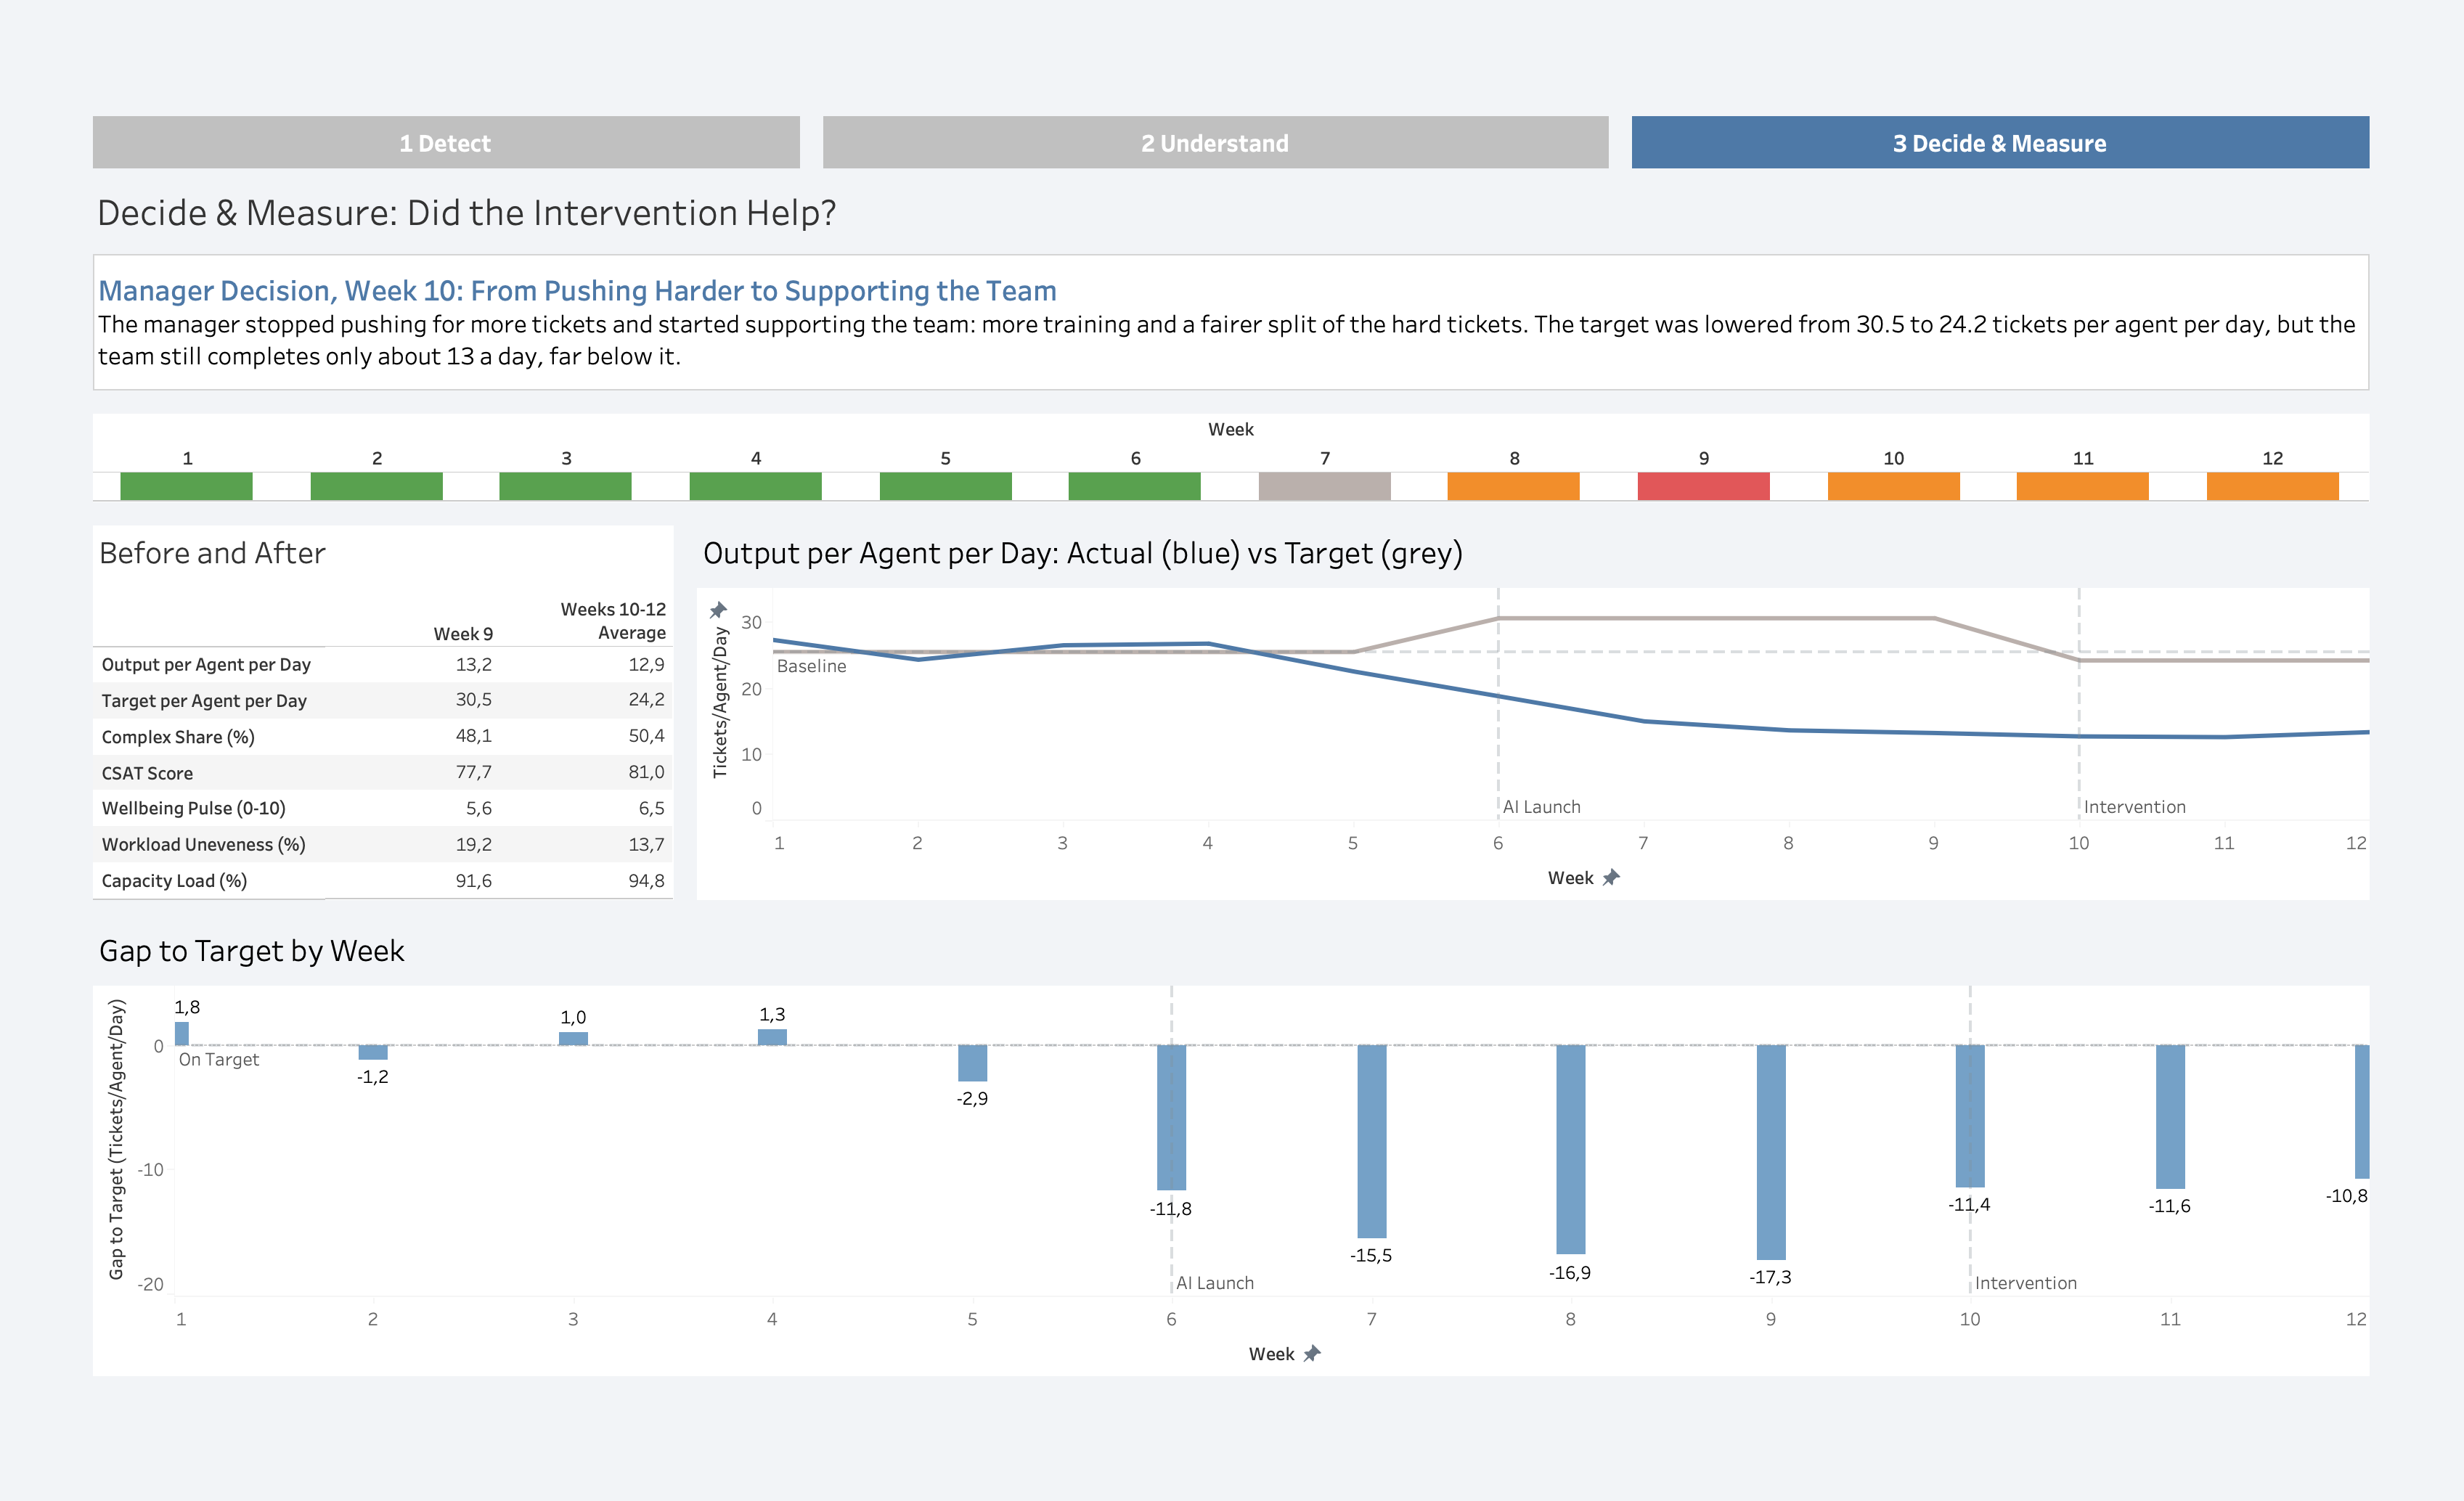

Layout of this report page (visuals, bound fields, positions):
{"tool":"tableau","page":{"name":"3 Decide & Measure","canvas":[1600,900],"ordinal":2},"visuals":[{"type":"dashboard-object","box":[8,8,503,51.9]},{"type":"dashboard-object","box":[511,8,556.5,51.9]},{"type":"dashboard-object","box":[1067.6,8,524.4,51.9]},{"type":"title","box":[8,59.9,1584,43]},{"type":"text","box":[8,102.9,1584,110]},{"type":"worksheet","title":"Weekly Status","mark":"Square","cols":["week"],"box":[8,212.9,1584,77]},{"type":"worksheet","title":"Before and After","mark":"Automatic","cols":["Calculation_0180855626141697"],"box":[8,289.9,416,274.1]},{"type":"worksheet","title":"Output per Agent per Day vs Target","mark":"Automatic","cols":["week"],"box":[424,289.9,1168,274.1]},{"type":"worksheet","title":"Gap to Target","mark":"Bar","rows":["Calculation_2820507049517058"],"cols":["week"],"box":[8,564,1584,328]}]}

Visuals, with their boxes on the page's 1600x900 design canvas (x1, y1, x2, y2). These are canvas units, not pixel positions in the 2464x1501 screenshot, which may show the page scaled, cropped or inside an application window:
dashboard-object: [x1=8, y1=8, x2=511, y2=60]
dashboard-object: [x1=511, y1=8, x2=1068, y2=60]
dashboard-object: [x1=1068, y1=8, x2=1592, y2=60]
title: [x1=8, y1=60, x2=1592, y2=103]
text: [x1=8, y1=103, x2=1592, y2=213]
"Weekly Status" worksheet (Square marks): [x1=8, y1=213, x2=1592, y2=290]
"Before and After" worksheet: [x1=8, y1=290, x2=424, y2=564]
"Output per Agent per Day vs Target" worksheet: [x1=424, y1=290, x2=1592, y2=564]
"Gap to Target" worksheet (Bar marks): [x1=8, y1=564, x2=1592, y2=892]
